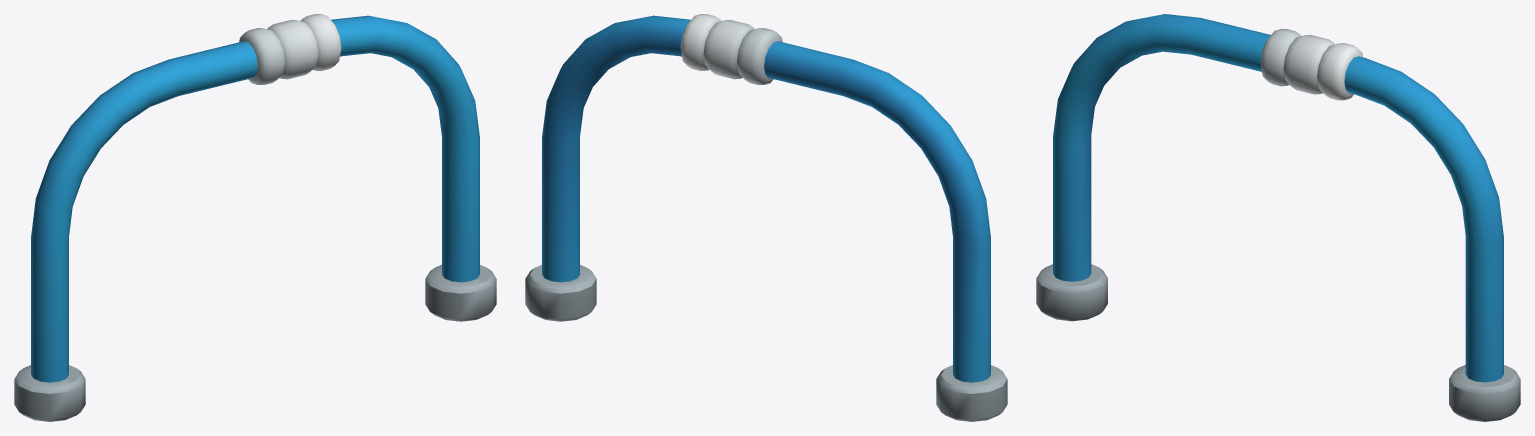
The model's file is arch-wide-blue.glb.
The picture shows the model from 3 angles, left to right: view 1: azimuth 30°, elevation 25°; view 2: azimuth 150°, elevation 25°; view 3: azimuth 330°, elevation 25°; orthographic projection.
Parts seen in each view (by area): view 1: arch_wide_blue; view 2: arch_wide_blue; view 3: arch_wide_blue.
Part boxes in pixels (<box>): arch_wide_blue: <box>14,14,496,421</box>; arch_wide_blue: <box>525,14,1007,421</box>; arch_wide_blue: <box>1036,14,1520,421</box>.
Bounding box in the file's own units: 5.75 × 3.8 × 0.75.
Materials: 1 (1 with a texture image).
